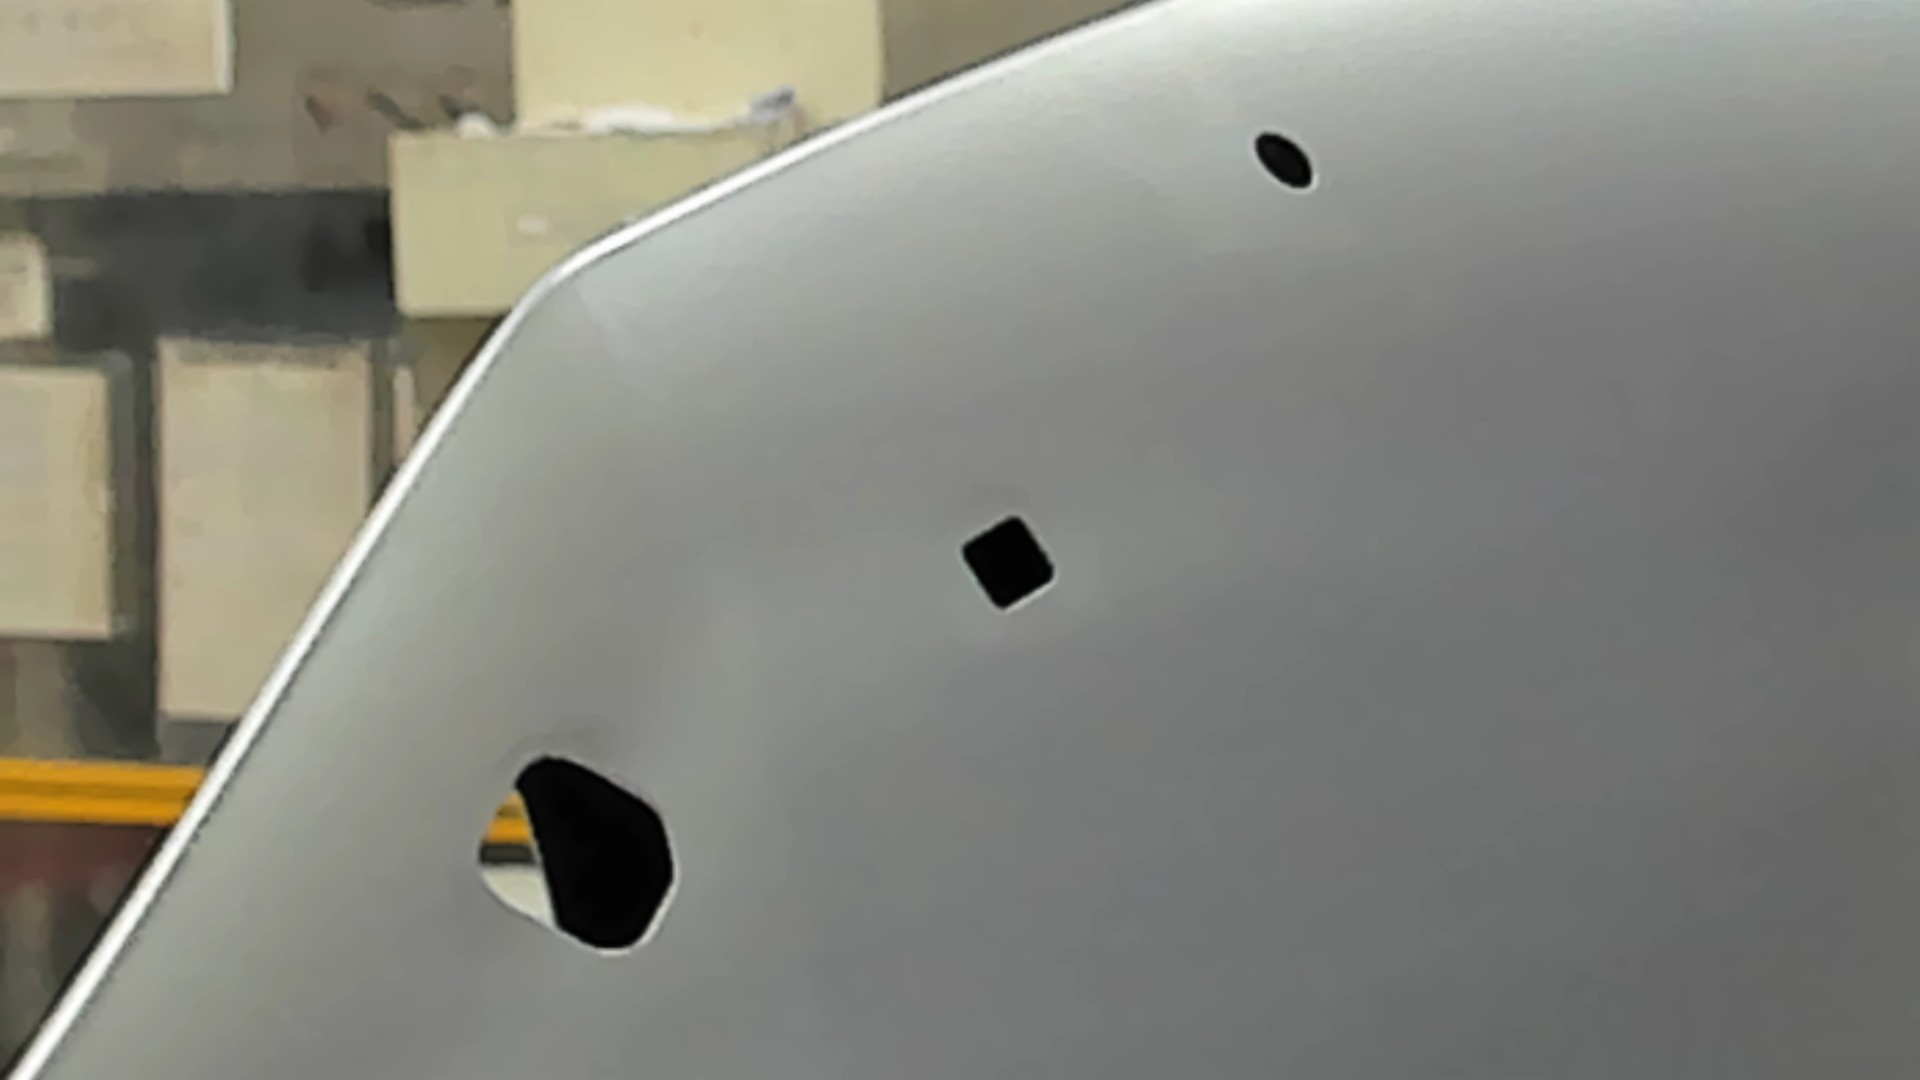chico: (1251, 127, 1317, 194)
grande: (473, 750, 680, 961)
mediano: (955, 512, 1059, 615)
